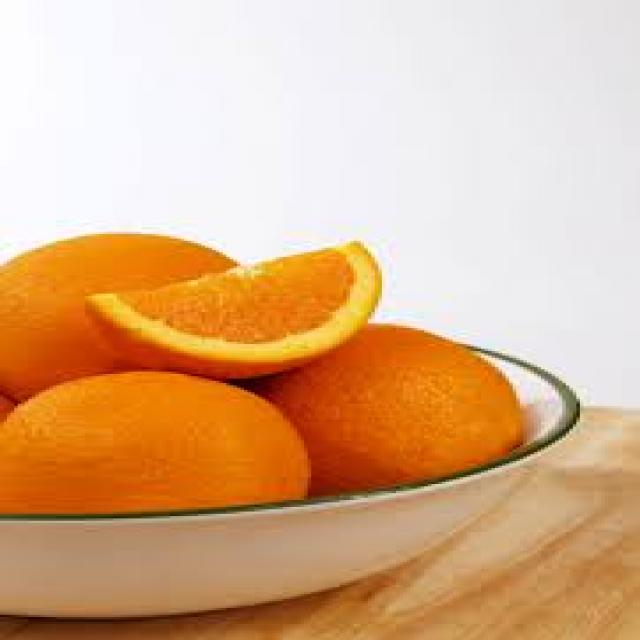organic waste: (251, 321, 523, 491), (0, 232, 265, 404), (0, 369, 308, 512), (82, 238, 378, 378)
